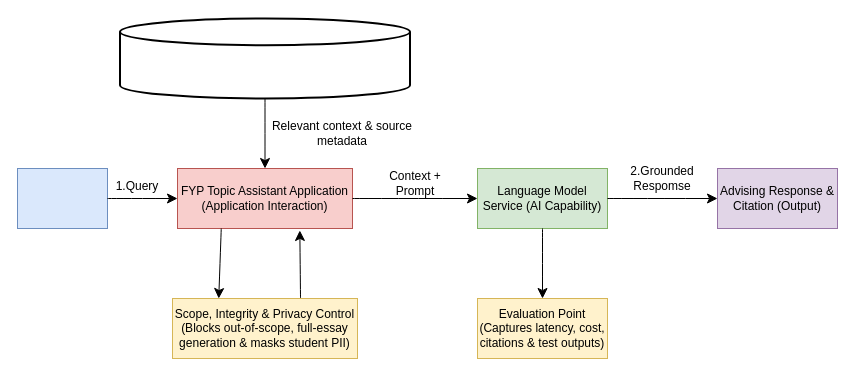
Image size: 855x376. Some labels were removed from this diagram. Each missing label, with the centre of its shape:
"Departmental FYP Knowledge Sources (FYP Handbooks, Supervisor List, Past Topics)" goes at [264,58].
"Undergraduate Student (User)" goes at [62,198].
